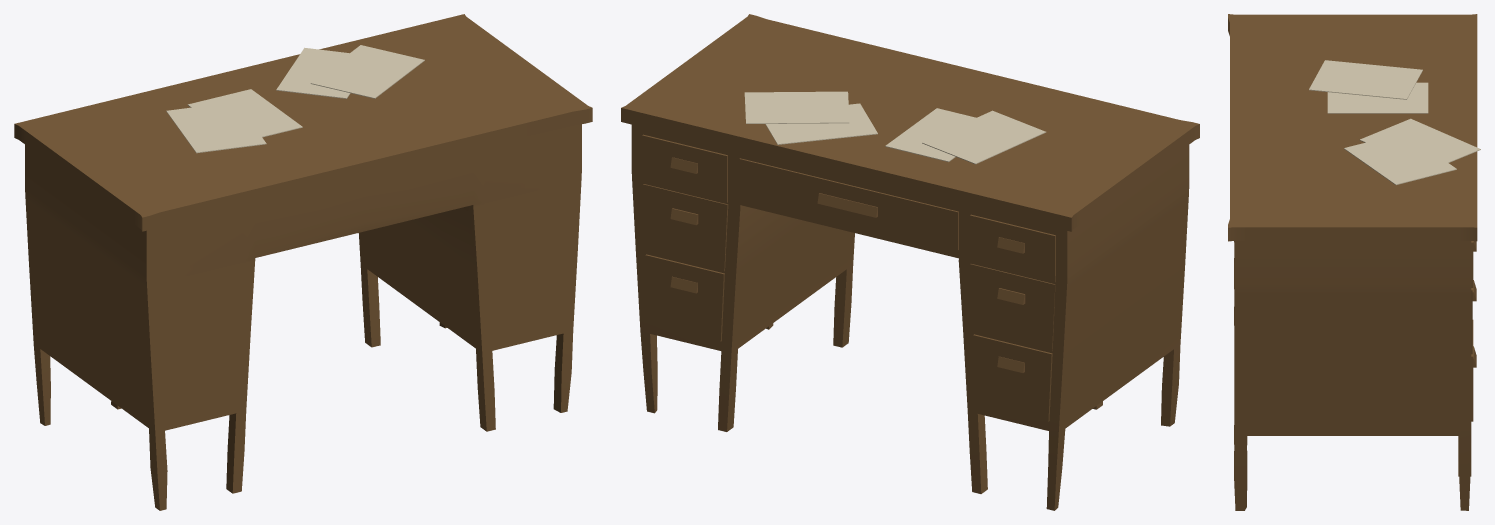
Rendered from desk with pages.fbx.
3 renders of one model, left to right at view 1: azimuth 30°, elevation 25°; view 2: azimuth 150°, elevation 25°; view 3: azimuth 270°, elevation 25°, orthographic. The views are drawn at different scales.
Visible parts, largest first — view 1: Cube, Plane.003, Plane.001, Plane.002, Plane; view 2: Cube, Plane.001, Plane.003, Plane.002, Plane; view 3: Cube, Plane.001, Plane.003, Plane, Plane.002.
Boxes of the visible parts, x1,y1,x2,y2 form: Cube: (14,14,592,510); Plane.003: (310,45,424,98); Plane.001: (166,101,266,153); Plane.002: (276,47,350,98); Plane: (187,89,302,137); Cube: (621,14,1199,510); Plane.001: (922,110,1046,164); Plane.003: (744,91,849,123); Plane.002: (765,103,877,144); Plane: (885,108,976,161); Cube: (1228,14,1477,510); Plane.001: (1309,60,1422,99); Plane.003: (1344,132,1456,184); Plane: (1327,82,1428,113); Plane.002: (1359,118,1480,162).
Bounding box in the file's own units: 124 × 80.59 × 61.99.
